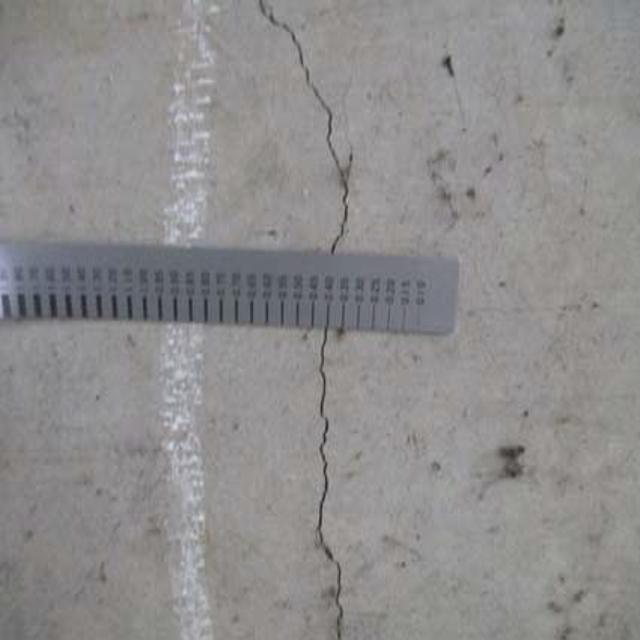crack: (256, 3, 384, 254), (302, 325, 378, 640)
